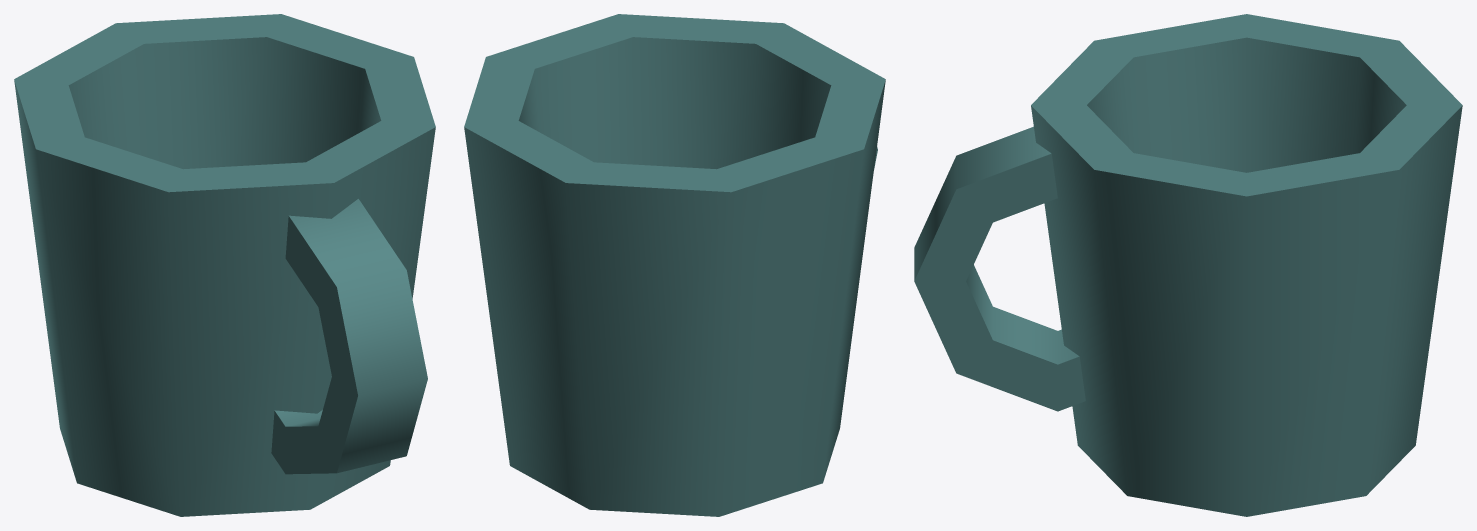
The model's file is mug.dae.
3 renders of one model, left to right at view 1: azimuth 30°, elevation 25°; view 2: azimuth 150°, elevation 25°; view 3: azimuth 270°, elevation 25°, orthographic.
Visible parts, largest first — view 1: mug; view 2: mug; view 3: mug.
Boxes of the visible parts, left/top/right/bottom form: mug: left=14, top=14, right=435, bottom=516; mug: left=464, top=14, right=885, bottom=516; mug: left=914, top=14, right=1462, bottom=516.
Size of the model in its own units: 0.115 by 0.1461 by 0.1.
